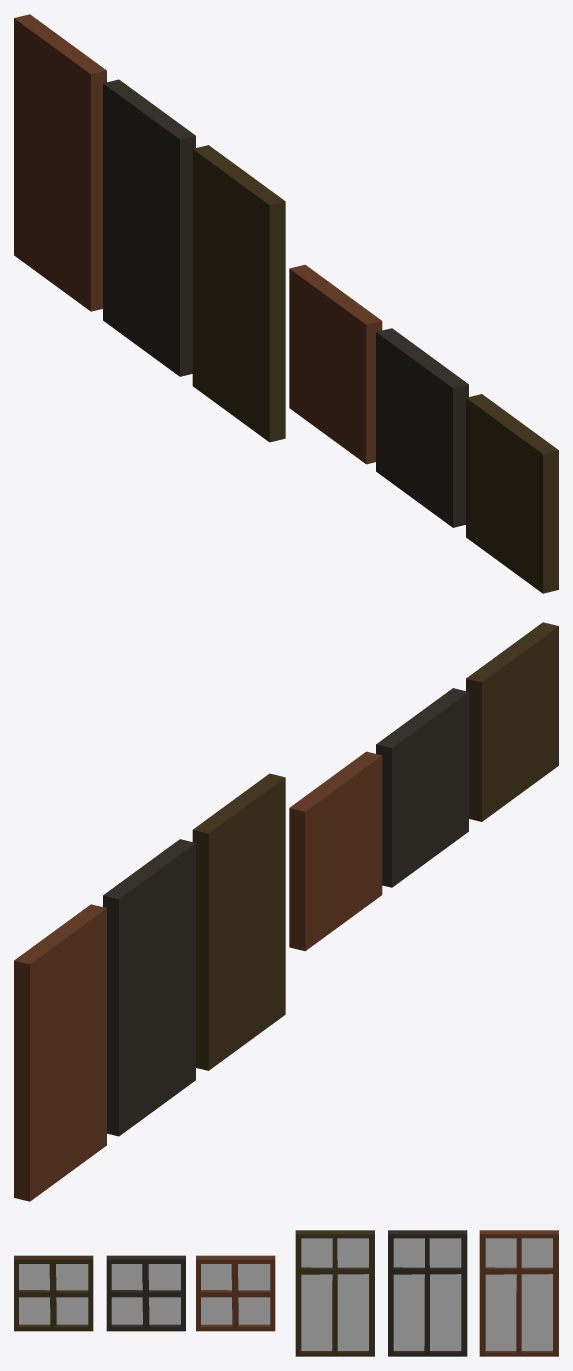
File: lowpoly+windows+set.fbx
3 renders of one model, top to bottom at view 1: azimuth 30°, elevation 25°; view 2: azimuth 150°, elevation 25°; view 3: azimuth 270°, elevation 25°, orthographic. The views are drawn at different scales.
Visible parts, largest first — view 1: big window 1, big window 2, big window 3, small window 3, small window 2, small window 1; view 2: big window 3, big window 1, big window 2, small window 1, small window 3, small window 2; view 3: big window 3, big window 2, big window 1, small window 3, small window 2, small window 1.
Part boxes in pixels (x1,y1,x2,y2): big window 1: (192, 145, 285, 442); big window 2: (103, 79, 195, 376); big window 3: (14, 14, 106, 311); small window 3: (466, 394, 558, 593); small window 2: (376, 328, 468, 527); small window 1: (289, 264, 382, 464); big window 3: (14, 904, 106, 1201); big window 1: (192, 773, 285, 1070); big window 2: (103, 839, 195, 1136); small window 1: (289, 751, 382, 951); small window 3: (466, 622, 558, 821); small window 2: (376, 688, 468, 887); big window 3: (479, 1230, 558, 1356); big window 2: (388, 1230, 467, 1356); big window 1: (295, 1230, 374, 1356); small window 3: (14, 1255, 93, 1331); small window 2: (106, 1255, 185, 1331); small window 1: (196, 1255, 275, 1331).
Bounding box in the file's own units: 22.25 × 315 × 1274.
